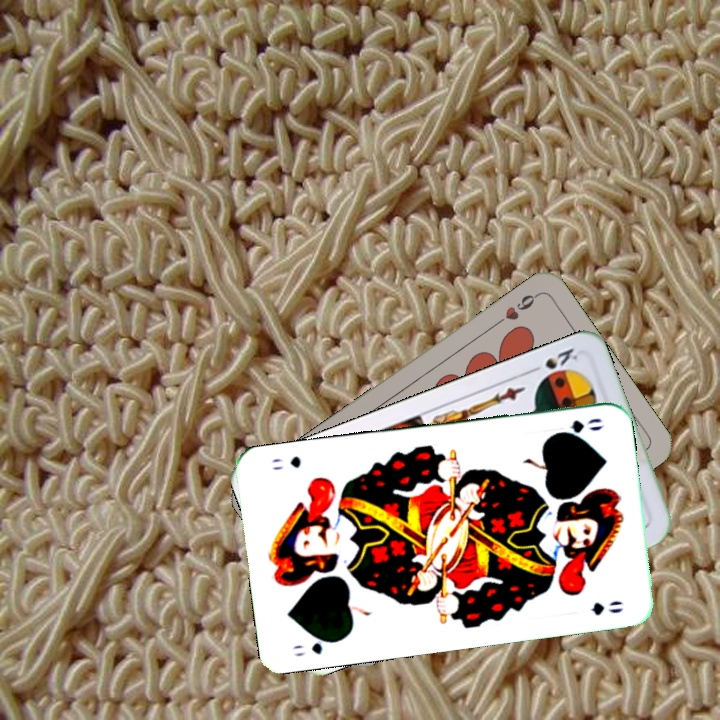GO: (548, 414, 606, 439), (288, 633, 342, 659)
H9: (490, 289, 541, 329)
SK: (525, 344, 581, 376)
